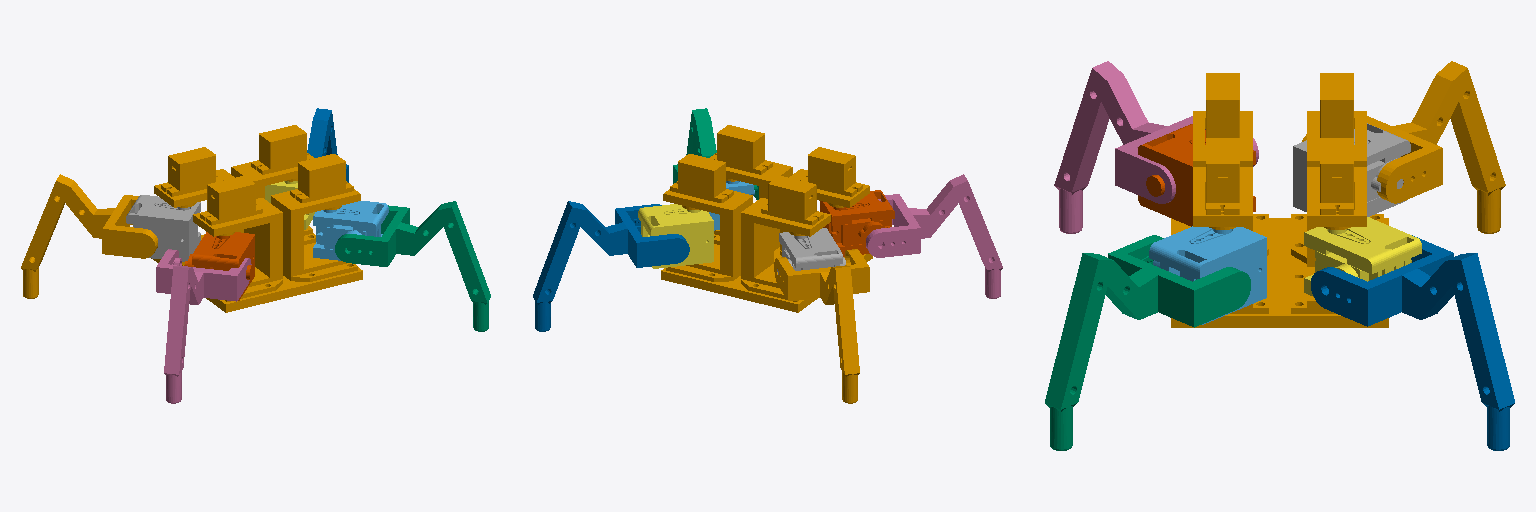
robot.urdf — kumo:
<?xml version="1.0" ?>
<robot name="kumo">

<material name="silver">
  <color rgba="0.700 0.700 0.700 1.000"/>
</material>

<material name="blue">
  <color rgba="0.0 0.0 1.0 2.0"/>
</material>

<material name="green">
  <color rgba="0.0 1.0 0.0 2.0"/>
</material>

<material name="red">
  <color rgba="1.0 0.0 0.0 2.0"/>
</material>

<link name="base_link">
  <inertial>
    <origin rpy="0 0 0" xyz="-3.2828523667326645e-16 1.0814101913942895e-15 0.024417844604558786"/>
    <mass value="0.9242881981348102"/>
    <inertia ixx="0.0008765218538816384" ixy="-1.5814066500752265e-16" ixz="-5.624227384210757e-18" iyy="0.0009418097370301066" iyz="-2.249078348449023e-19" izz="0.0009790764986276732"/>
  </inertial>
  <visual>
    <origin rpy="0 0 0" xyz="0 0 0"/>
    <geometry>
      <mesh filename="meshes/base_link.stl" scale="0.001 0.001 0.001"/>
    </geometry>
    <material name="blue"/>
    <material/>
  </visual>
  <collision>
    <origin rpy="0 0 0" xyz="0 0 0"/>
    <geometry>
      <mesh filename="meshes/base_link.stl" scale="0.001 0.001 0.001"/>
    </geometry>
  </collision>
</link>

<link name="leg_link1-1">
  <inertial>
    <origin rpy="0 0 0" xyz="0.009877910115293667 0.0028432409769299297 -0.012546221364477732"/>
    <mass value="0.1519573993334495"/>
    <inertia ixx="1.7285640344542874e-05" ixy="1.1944450619057754e-06" ixz="7.049580567721793e-07" iyy="2.0873938386553983e-05" iyz="1.1729337959116837e-07" izz="2.2930059309905185e-05"/>
  </inertial>
  <visual>
    <origin rpy="0 0 0" xyz="-0.0332 0.021 -0.0358"/>
    <geometry>
      <mesh filename="meshes/leg_link1-1.stl" scale="0.001 0.001 0.001"/>
    </geometry>
    <material name="red"/>
    <material/>
  </visual>
  <collision>
    <origin rpy="0 0 0" xyz="-0.0332 0.021 -0.0358"/>
    <geometry>
      <mesh filename="meshes/leg_link1-1.stl" scale="0.001 0.001 0.001"/>
    </geometry>
  </collision>
</link>

<link name="leg_link2-1">
  <inertial>
    <origin rpy="0 0 0" xyz="0.03328802935137784 0.01686136829358128 -0.0030927268345646818"/>
    <mass value="0.11219767290112359"/>
    <inertia ixx="3.6140402562755526e-05" ixy="-7.364885615149079e-08" ixz="1.559428806969165e-05" iyy="7.741493401079171e-05" iyz="-5.5994273970215946e-08" izz="7.118485753461674e-05"/>
  </inertial>
  <visual>
    <origin rpy="0 0 0" xyz="-0.0489 0.0377 -0.0235"/>
    <geometry>
      <mesh filename="meshes/leg_link2-1.stl" scale="0.001 0.001 0.001"/>
    </geometry>
    <material name="green"/>
    <material/>
  </visual>
  <collision>
    <origin rpy="0 0 0" xyz="-0.0489 0.0377 -0.0235"/>
    <geometry>
      <mesh filename="meshes/leg_link2-1.stl" scale="0.001 0.001 0.001"/>
    </geometry>
  </collision>
</link>

<link name="leg_link1-2">
  <inertial>
    <origin rpy="0 0 0" xyz="0.009877910115293646 0.0028432409769299713 -0.012546221364477715"/>
    <mass value="0.1519573993334495"/>
    <inertia ixx="1.7285640344542793e-05" ixy="1.1944450619057754e-06" ixz="7.049580567721522e-07" iyy="2.0873938386554037e-05" iyz="1.1729337959118192e-07" izz="2.2930059309905076e-05"/>
  </inertial>
  <visual>
    <origin rpy="0 0 0" xyz="-0.0332 -0.021 -0.0358"/>
    <geometry>
      <mesh filename="meshes/leg_link1-2.stl" scale="0.001 0.001 0.001"/>
    </geometry>
    <material name="red"/>
    <material/>
  </visual>
  <collision>
    <origin rpy="0 0 0" xyz="-0.0332 -0.021 -0.0358"/>
    <geometry>
      <mesh filename="meshes/leg_link1-2.stl" scale="0.001 0.001 0.001"/>
    </geometry>
  </collision>
</link>

<link name="leg_link2-2">
  <inertial>
    <origin rpy="0 0 0" xyz="0.03328802935137774 0.05886136829358143 -0.003092726834564588"/>
    <mass value="0.11219767290112359"/>
    <inertia ixx="3.61404025627555e-05" ixy="-7.364885615146369e-08" ixz="1.559428806969165e-05" iyy="7.74149340107915e-05" iyz="-5.5994273970215946e-08" izz="7.118485753461641e-05"/>
  </inertial>
  <visual>
    <origin rpy="0 0 0" xyz="-0.0489 0.0377 -0.0235"/>
    <geometry>
      <mesh filename="meshes/leg_link2-2.stl" scale="0.001 0.001 0.001"/>
    </geometry>
    <material name="green"/>
    <material/>
  </visual>
  <collision>
    <origin rpy="0 0 0" xyz="-0.0489 0.0377 -0.0235"/>
    <geometry>
      <mesh filename="meshes/leg_link2-2.stl" scale="0.001 0.001 0.001"/>
    </geometry>
  </collision>
</link>

<link name="leg_link1-3">
  <inertial>
    <origin rpy="0 0 0" xyz="-0.00987791011529366 -0.0028432409769277717 -0.012546221364477753"/>
    <mass value="0.1519573993334495"/>
    <inertia ixx="1.728564034454274e-05" ixy="1.1944450619058025e-06" ixz="-7.049580567721793e-07" iyy="2.0873938386553874e-05" iyz="-1.1729337959116837e-07" izz="2.2930059309905076e-05"/>
  </inertial>
  <visual>
    <origin rpy="0 0 0" xyz="0.0332 0.021 -0.0358"/>
    <geometry>
      <mesh filename="meshes/leg_link1-3.stl" scale="0.001 0.001 0.001"/>
    </geometry>
    <material name="red"/>
    <material/>
  </visual>
  <collision>
    <origin rpy="0 0 0" xyz="0.0332 0.021 -0.0358"/>
    <geometry>
      <mesh filename="meshes/leg_link1-3.stl" scale="0.001 0.001 0.001"/>
    </geometry>
  </collision>
</link>

<link name="leg_link2-3">
  <inertial>
    <origin rpy="0 0 0" xyz="-0.033288029351376536 -0.016861368293580398 -0.0030927268345646852"/>
    <mass value="0.11219767290112359"/>
    <inertia ixx="3.61404025627555e-05" ixy="-7.364885615165342e-08" ixz="-1.5594288069691704e-05" iyy="7.74149340107916e-05" iyz="5.5994273970141407e-08" izz="7.118485753461652e-05"/>
  </inertial>
  <visual>
    <origin rpy="0 0 0" xyz="0.0489 0.0093 -0.0235"/>
    <geometry>
      <mesh filename="meshes/leg_link2-3.stl" scale="0.001 0.001 0.001"/>
    </geometry>
    <material name="green"/>
    <material/>
  </visual>
  <collision>
    <origin rpy="0 0 0" xyz="-0.0489 0.0377 -0.0235"/>
    <geometry>
      <mesh filename="meshes/leg_link2-3.stl" scale="0.001 0.001 0.001"/>
    </geometry>
  </collision>
</link>

<link name="leg_link1-4">
  <inertial>
    <origin rpy="0 0 0" xyz="-0.0098779101152935 -0.0028432409769278168 -0.012546221364477621"/>
    <mass value="0.1519573993334495"/>
    <inertia ixx="1.7285640344542766e-05" ixy="1.1944450619057482e-06" ixz="-7.049580567722064e-07" iyy="2.0873938386554037e-05" iyz="-1.1729337959114126e-07" izz="2.2930059309904914e-05"/>
  </inertial>
  <visual>
    <origin rpy="0 0 0" xyz="0.0332 -0.021 -0.0358"/>
    <geometry>
      <mesh filename="meshes/leg_link1-4.stl" scale="0.001 0.001 0.001"/>
    </geometry>
    <material name="red"/>
    <material/>
  </visual>
  <collision>
    <origin rpy="0 0 0" xyz="0.0332 -0.026 -0.0358"/>
    <geometry>
      <mesh filename="meshes/leg_link1-4.stl" scale="0.001 0.001 0.001"/>
    </geometry>
  </collision>
</link>

<link name="leg_link2-4">
  <inertial>
    <origin rpy="0 0 0" xyz="-0.03328802935137638 -0.016861368293580262 -0.0030927268345645707"/>
    <mass value="0.11219767290112359"/>
    <inertia ixx="3.61404025627555e-05" ixy="-7.364885615170763e-08" ixz="-1.5594288069691677e-05" iyy="7.741493401079182e-05" iyz="5.5994273970127854e-08" izz="7.118485753461674e-05"/>
  </inertial>
  <visual>
    <origin rpy="0 0 0" xyz="0.0489 -0.0427 -0.0235"/>
    <geometry>
      <mesh filename="meshes/leg_link2-4.stl" scale="0.001 0.001 0.001"/>
    </geometry>
    <material name="green"/>
    <material/>
  </visual>
  <collision>
    <origin rpy="0 0 0" xyz="0.0489 -0.0427 -0.0235"/>
    <geometry>
      <mesh filename="meshes/leg_link2-4.stl" scale="0.001 0.001 0.001"/>
    </geometry>
  </collision>
</link>

<joint name="Rev1-1" type="continuous">
  <origin rpy="0 0 -0.7853" xyz="0.0332 -0.021 0.0358"/>
  <parent link="base_link"/>
  <child link="leg_link1-1"/>
  <axis xyz="-0.0 -0.0 -1.0"/>
</joint>
<transmission name="Rev1-1_tran">
  <type>transmission_interface/SimpleTransmission</type>
  <joint name="Rev1-1">
    <hardwareInterface>PositionJointInterface</hardwareInterface>
  </joint>
  <actuator name="Rev1-1_actr">
    <hardwareInterface>PositionJointInterface</hardwareInterface>
    <mechanicalReduction>1</mechanicalReduction>
  </actuator>
</transmission>

<joint name="Rev2-1" type="continuous">
  <origin rpy="0 0 0" xyz="0.0157 -0.0167 -0.0123"/>
  <parent link="leg_link1-1"/>
  <child link="leg_link2-1"/>
  <axis xyz="-0.0 -1.0 0.0"/>
</joint>
<transmission name="Rev2-1_tran">
  <type>transmission_interface/SimpleTransmission</type>
  <joint name="Rev2-1">
    <hardwareInterface>PositionJointInterface</hardwareInterface>
  </joint>
  <actuator name="Rev2-1_actr">
    <hardwareInterface>PositionJointInterface</hardwareInterface>
    <mechanicalReduction>1</mechanicalReduction>
  </actuator>
</transmission>

<joint name="Rev1-2" type="continuous">
  <origin rpy="0 0 0.7853" xyz="0.0332 0.021 0.0358"/>
  <parent link="base_link"/>
  <child link="leg_link1-2"/>
  <axis xyz="-0.0 0.0 -1.0"/>
</joint>
<transmission name="Rev1-2_tran">
  <type>transmission_interface/SimpleTransmission</type>
  <joint name="Rev1-2">
    <hardwareInterface>PositionJointInterface</hardwareInterface>
  </joint>
  <actuator name="Rev1-2_actr">
    <hardwareInterface>PositionJointInterface</hardwareInterface>
    <mechanicalReduction>1</mechanicalReduction>
  </actuator>
</transmission>

<joint name="Rev2-2" type="continuous">
  <origin rpy="0 0 0" xyz="0.0157 -0.0587 -0.0123"/>
  <parent link="leg_link1-2"/>
  <child link="leg_link2-2"/>
  <axis xyz="-0.0 -1.0 0.0"/>
</joint>
<transmission name="Rev2-2_tran">
  <type>transmission_interface/SimpleTransmission</type>
  <joint name="Rev2-2">
    <hardwareInterface>PositionJointInterface</hardwareInterface>
  </joint>
  <actuator name="Rev2-2_actr">
    <hardwareInterface>PositionJointInterface</hardwareInterface>
    <mechanicalReduction>1</mechanicalReduction>
  </actuator>
</transmission>

<joint name="Rev1-3" type="continuous">
  <origin rpy="0 0 0.7853" xyz="-0.0332 -0.021 0.0358"/>
  <parent link="base_link"/>
  <child link="leg_link1-3"/>
  <axis xyz="0.0 0.0 -1.0"/>
</joint>
<transmission name="Rev1-3_tran">
  <type>transmission_interface/SimpleTransmission</type>
  <joint name="Rev1-3">
    <hardwareInterface>PositionJointInterface</hardwareInterface>
  </joint>
  <actuator name="Rev1-3_actr">
    <hardwareInterface>PositionJointInterface</hardwareInterface>
    <mechanicalReduction>1</mechanicalReduction>
  </actuator>
</transmission>

<joint name="Rev2-3" type="continuous">
  <origin rpy="0 0 0" xyz="-0.0157 0.0167 -0.0123"/>
  <parent link="leg_link1-3"/>
  <child link="leg_link2-3"/>
  <axis xyz="0.0 1.0 0.0"/>
</joint>
<transmission name="Rev2-3_tran">
  <type>transmission_interface/SimpleTransmission</type>
  <joint name="Rev2-3">
    <hardwareInterface>PositionJointInterface</hardwareInterface>
  </joint>
  <actuator name="Rev2-3_actr">
    <hardwareInterface>PositionJointInterface</hardwareInterface>
    <mechanicalReduction>1</mechanicalReduction>
  </actuator>
</transmission>

<joint name="Rev1-4" type="continuous">
  <origin rpy="0 0 -0.7853" xyz="-0.0332 0.021 0.0358"/>
  <parent link="base_link"/>
  <child link="leg_link1-4"/>
  <axis xyz="0.0 0.0 -1.0"/>
</joint>
<transmission name="Rev4-1_tran">
  <type>transmission_interface/SimpleTransmission</type>
  <joint name="Rev4-1">
    <hardwareInterface>PositionJointInterface</hardwareInterface>
  </joint>
  <actuator name="Rev4-1_actr">
    <hardwareInterface>PositionJointInterface</hardwareInterface>
    <mechanicalReduction>1</mechanicalReduction>
  </actuator>
</transmission>

<joint name="Rev4-2" type="continuous">
  <origin rpy="0 0 0" xyz="-0.0157 0.0167 -0.0123"/>
  <parent link="leg_link1-4"/>
  <child link="leg_link2-4"/>
  <axis xyz="0.0 1.0 0.0"/>
</joint>
<transmission name="Rev4-2_tran">
  <type>transmission_interface/SimpleTransmission</type>
  <joint name="Rev4-2">
    <hardwareInterface>PositionJointInterface</hardwareInterface>
  </joint>
  <actuator name="Rev4-2_actr">
    <hardwareInterface>PositionJointInterface</hardwareInterface>
    <mechanicalReduction>1</mechanicalReduction>
  </actuator>
</transmission>

</robot>

--- Render facts (derived) ---
The picture shows the robot from 3 angles, left to right: view 1: azimuth 30°, elevation 25°; view 2: azimuth 150°, elevation 25°; view 3: azimuth 270°, elevation 25°; orthographic projection.
Robot: kumo — 9 links, 8 joints (8 continuous); root link base_link; default pose: every joint at zero.
Links seen in each view (by area): view 1: base_link, leg_link2-1, leg_link2-4, leg_link2-3, leg_link1-4, leg_link1-1, leg_link1-3, leg_link2-2; view 2: base_link, leg_link2-2, leg_link2-3, leg_link2-4, leg_link1-2, leg_link1-3, leg_link1-4, leg_link2-1; view 3: base_link, leg_link2-1, leg_link2-2, leg_link2-4, leg_link2-3, leg_link1-1, leg_link1-2, leg_link1-3, leg_link1-4.
Boxes of the visible links, x1,y1,x2,y2 form: base_link: (151,125,362,312); leg_link2-1: (335,201,490,331); leg_link2-4: (21,174,157,298); leg_link2-3: (156,249,251,403); leg_link1-4: (126,195,200,261); leg_link1-1: (313,201,388,260); leg_link1-3: (184,232,254,300); leg_link2-2: (307,108,348,182); base_link: (661,125,872,312); leg_link2-2: (533,201,689,331); leg_link2-3: (866,174,1002,298); leg_link2-4: (774,249,869,403); leg_link1-2: (638,204,713,268); leg_link1-3: (820,190,894,256); leg_link1-4: (777,228,845,274); leg_link2-1: (673,108,758,199); base_link: (1171,73,1388,327); leg_link2-1: (1045,235,1250,450); leg_link2-2: (1311,235,1514,450); leg_link2-4: (1302,61,1505,233); leg_link2-3: (1054,61,1258,233); leg_link1-1: (1149,226,1266,324); leg_link1-2: (1304,217,1421,296); leg_link1-3: (1138,124,1255,226); leg_link1-4: (1293,123,1410,216).
Bounding box of the posed robot: 0.2007 × 0.1727 × 0.0898 m (x, y, z).
9 mesh visuals loaded from 9 distinct referenced files (9 binary STL).
